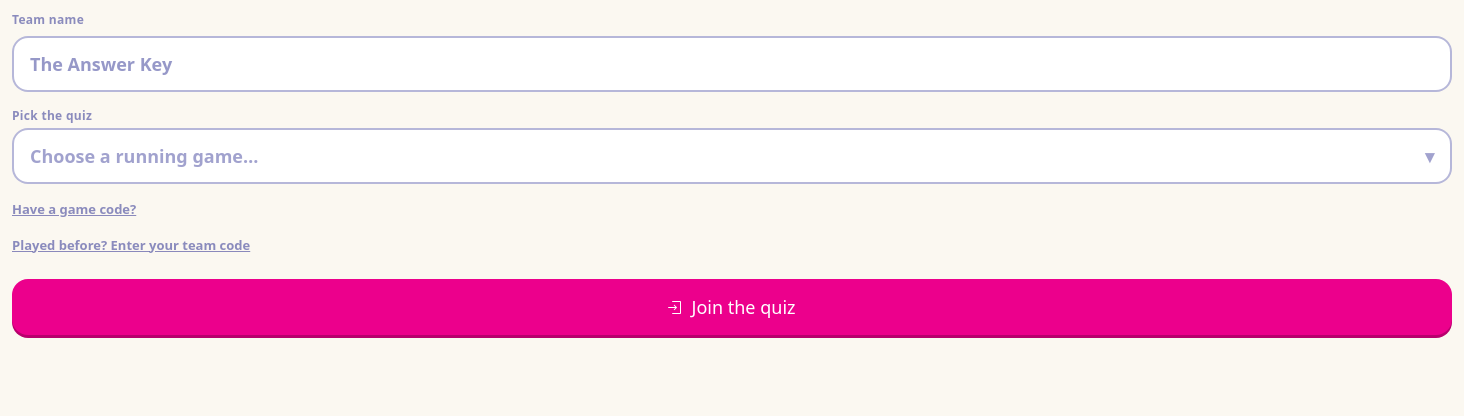
Scenario: JoinForm › lets a typed code be replaced by a dropdown pick
The width and height of the screenshot is (1464, 416).
Click the button "Have a game code?" at (74,210), box [12,200,136,220]
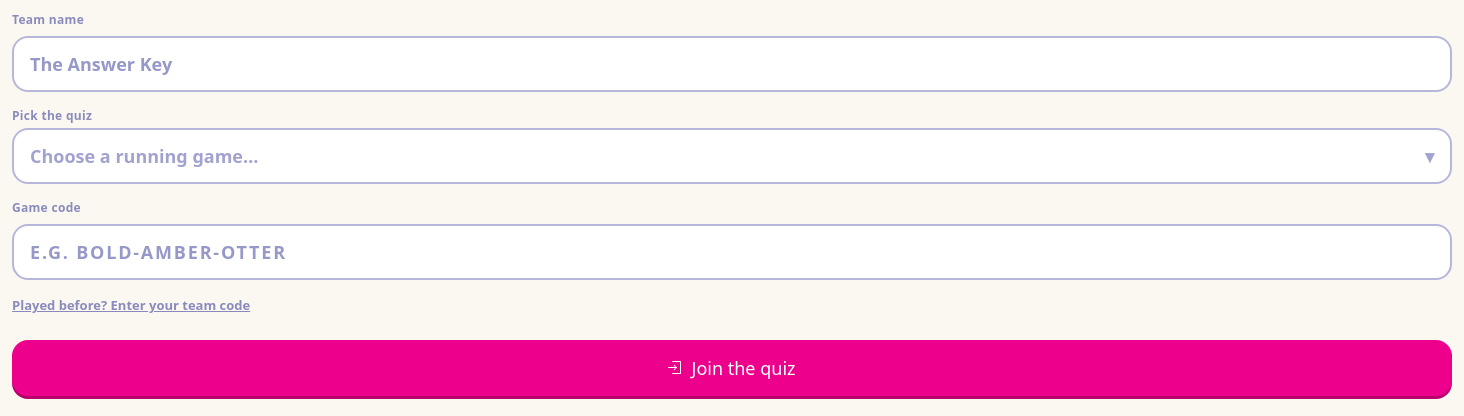
Type "XYZ" into the field labelled "Game code" at (732,252), box [12,224,1452,280]
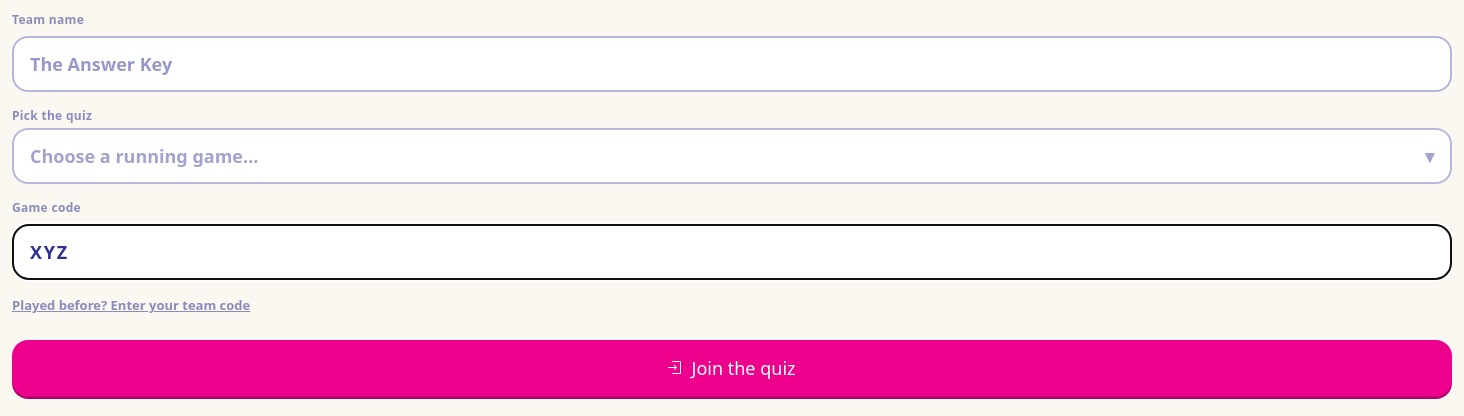
Click the dropdown named "pick the quiz" at (144,156), box [12,128,1452,184]
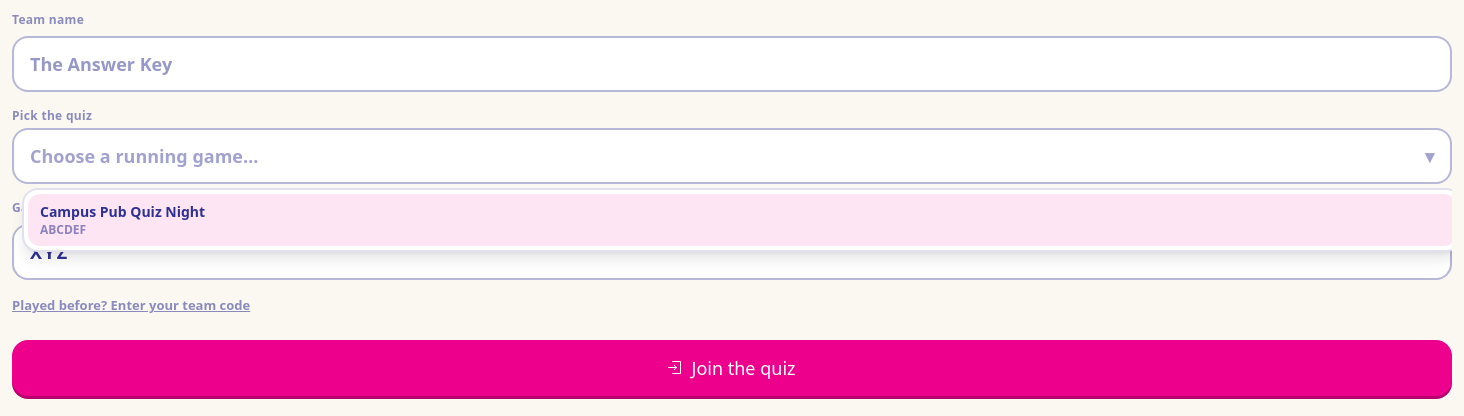
Click the option "Campus Pub Quiz Night ABCDEF" at (123,212), box [28,194,1452,246]
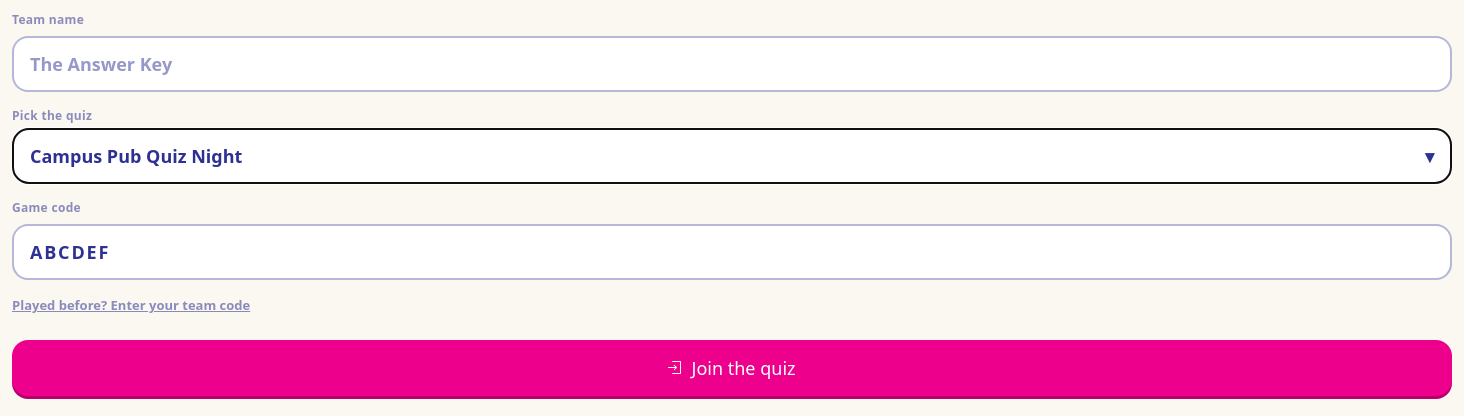
Result: the field labelled "Game code" holds "ABCDEF" at [12,224,1452,280]
